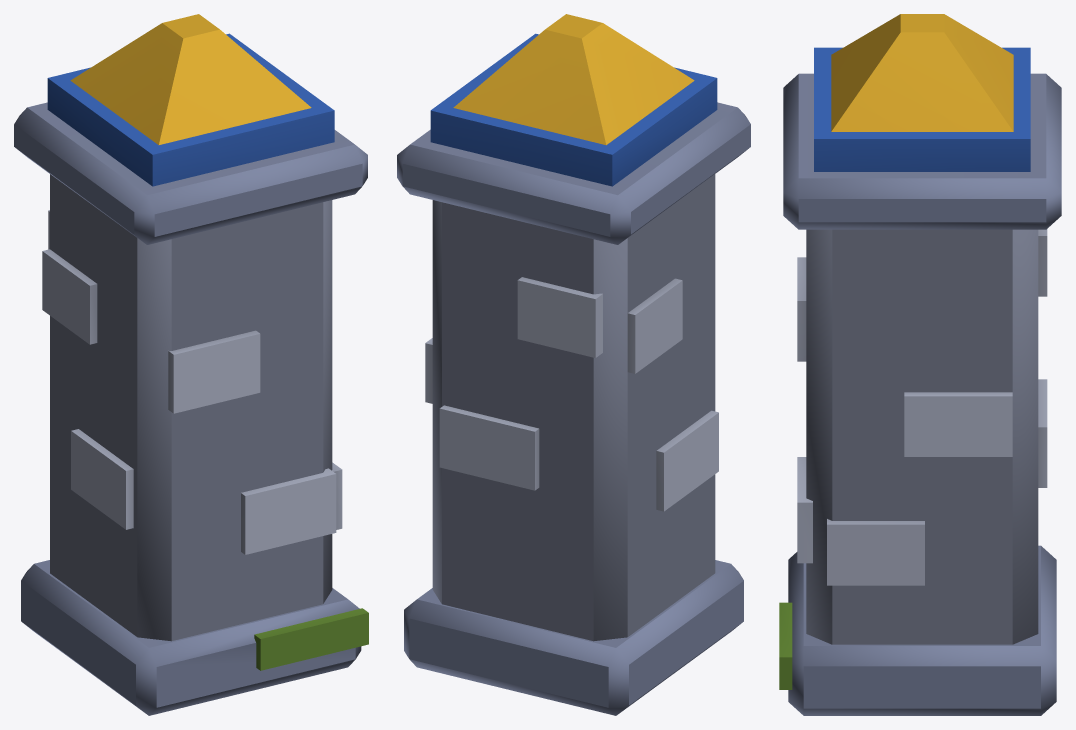
Rendered from wall_post_1.glb.
3 views of the same model, side by side, from view 1: azimuth 30°, elevation 25°; view 2: azimuth 150°, elevation 25°; view 3: azimuth 270°, elevation 25° (orthographic). The views are drawn at different scales.
Parts seen in each view (by area): view 1: body; view 2: body; view 3: body.
Part boxes in pixels (box(x1,y1,x2,y2)): body: box(14, 14, 368, 715); body: box(397, 14, 750, 715); body: box(779, 14, 1061, 715).
Size of the model in its own units: 1.08 by 2.75 by 1.09.
